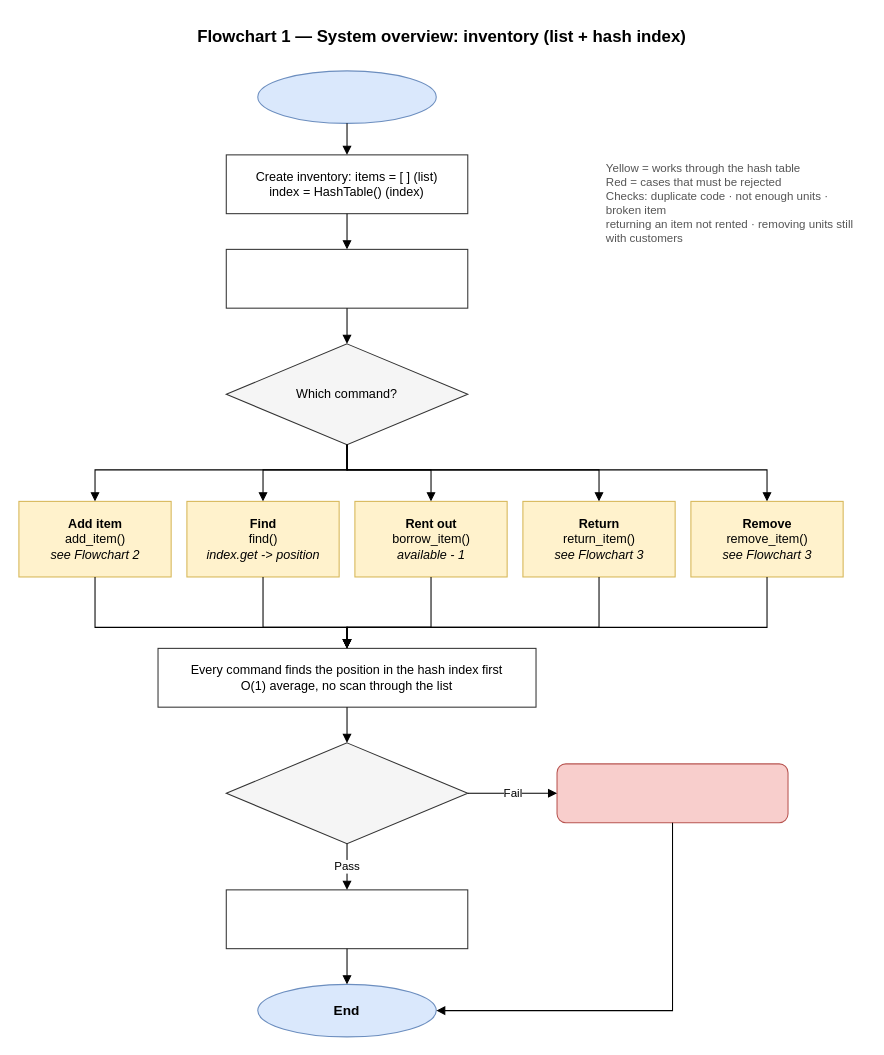
Image size: 884x1055. Some labels were removed from this diagram. The shapes that lost their labels are listed below. From the top down, each one's centre as x and y in pixels, then its label:
the point at 346,96: Start
the point at 346,278: Receive a command from the shop with an item code
the point at 346,793: Passes validation?
the point at 672,793: Reject with a reason (InventoryError), data untouched
the point at 346,919: Update list + index and return the result to the shop
